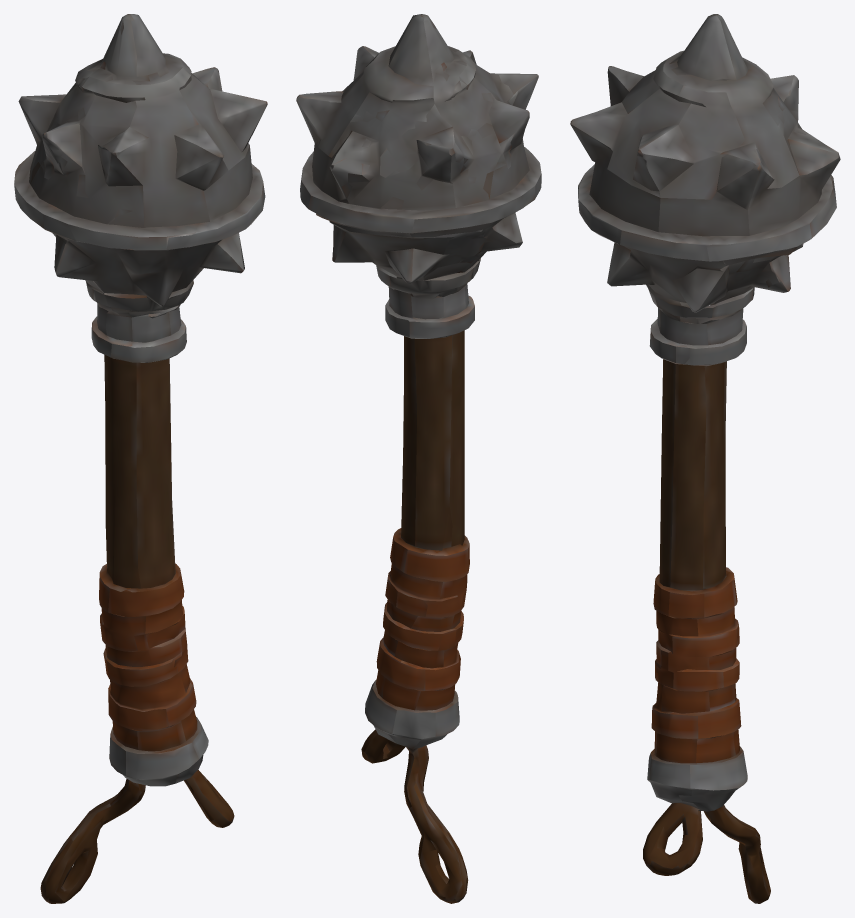
File: maca_cravos.glb
The picture shows the model from 3 angles, left to right: view 1: azimuth 30°, elevation 25°; view 2: azimuth 150°, elevation 25°; view 3: azimuth 270°, elevation 25°; orthographic projection. The views are drawn at different scales.
Parts seen in each view (by area): view 1: world; view 2: world; view 3: world.
Part boxes in pixels (bbox=[...]): world: bbox=[14, 14, 267, 903]; world: bbox=[296, 14, 541, 903]; world: bbox=[570, 14, 840, 903].
Size of the model in its own units: 0.2047 by 0.8 by 0.215.
Materials: 1 (1 with a texture image).
